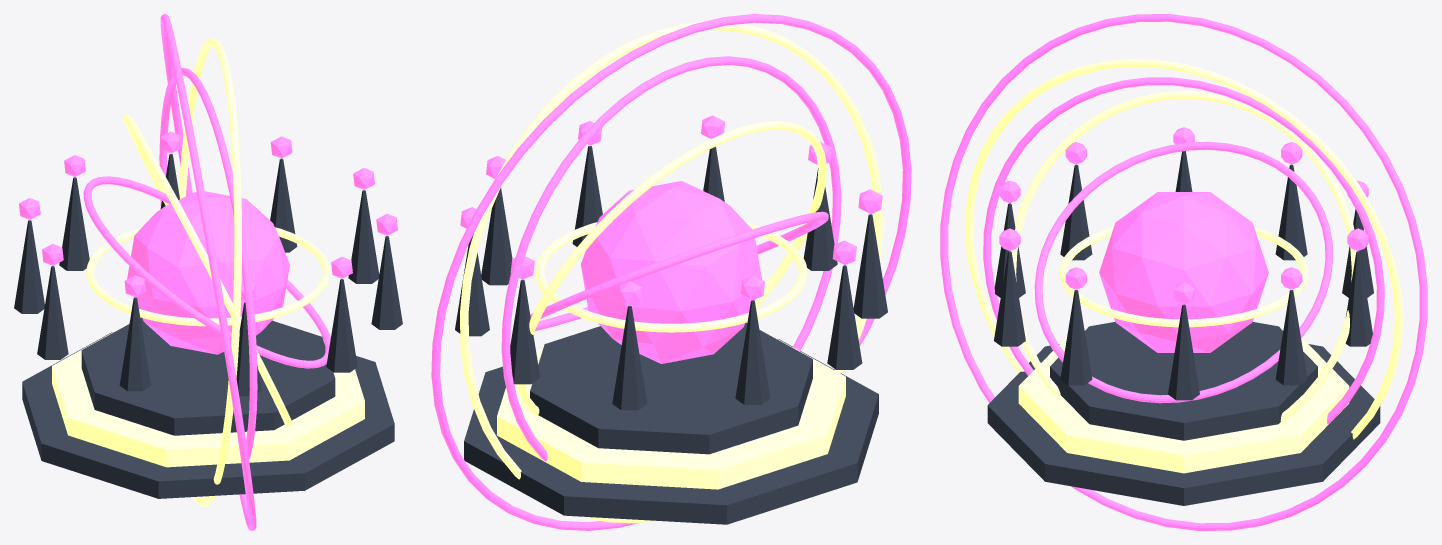
Rendered from gpu-blender-v7.glb.
The picture shows the model from 3 angles, left to right: view 1: azimuth 30°, elevation 25°; view 2: azimuth 150°, elevation 25°; view 3: azimuth 270°, elevation 25°; orthographic projection. The views are drawn at different scales.
Parts seen in each view (by area): view 1: Cylinder.002, Cylinder, SovereignCore_zoth-os-website, Cylinder.001, Torus.005, Torus.004, Torus.001, Torus.003, Torus, Torus.002, Cone.006, Cone.008 (+7 smaller); view 2: Cylinder.002, SovereignCore_zoth-os-website, Cylinder, Cylinder.001, Torus.005, Torus.003, Torus.004, Torus.002, Torus, Torus.001, Cone.003, Cone.004 (+8 smaller); view 3: SovereignCore_zoth-os-website, Cylinder.002, Cylinder, Cylinder.001, Torus.005, Torus.004, Torus.003, Torus.001, Torus.002, Torus, Cone, Cone.001 (+7 smaller).
Part boxes in pixels (x1,y1,x2,y2): Cylinder.002: (81, 317, 335, 435); Cylinder: (22, 332, 394, 498); SovereignCore_zoth-os-website: (127, 191, 289, 354); Cylinder.001: (52, 324, 364, 467); Torus.005: (160, 14, 256, 530); Torus.004: (178, 38, 241, 506); Torus.001: (83, 176, 330, 368); Torus.003: (159, 68, 257, 458); Torus: (86, 227, 330, 326); Torus.002: (123, 114, 292, 425); Cone.006: (119, 297, 150, 391); Cone.008: (326, 279, 357, 372); Cylinder.002: (530, 322, 812, 454); SovereignCore_zoth-os-website: (581, 181, 761, 363); Cylinder: (464, 339, 878, 524); Cylinder.001: (497, 330, 845, 489); Torus.005: (431, 14, 911, 530); Torus.003: (501, 56, 841, 461); Torus.004: (460, 22, 882, 523); Torus.002: (517, 121, 826, 415); Torus: (535, 222, 807, 332); Torus.001: (530, 211, 828, 330); Cone.003: (612, 306, 647, 410); Cone.004: (735, 300, 770, 404); SovereignCore_zoth-os-website: (1099, 192, 1268, 352); Cylinder.002: (1050, 322, 1317, 440); Cylinder: (987, 344, 1380, 505); Cylinder.001: (1018, 336, 1349, 473); Torus.005: (940, 14, 1427, 530); Torus.004: (965, 59, 1402, 439); Torus.003: (983, 77, 1384, 423); Torus.001: (1034, 141, 1333, 403); Torus.002: (1010, 90, 1357, 423); Torus: (1059, 227, 1308, 327); Cone: (1168, 304, 1199, 400); Cone.001: (1275, 290, 1307, 385).
Bounding box in the file's own units: 4.41 × 5.93 × 5.46.
